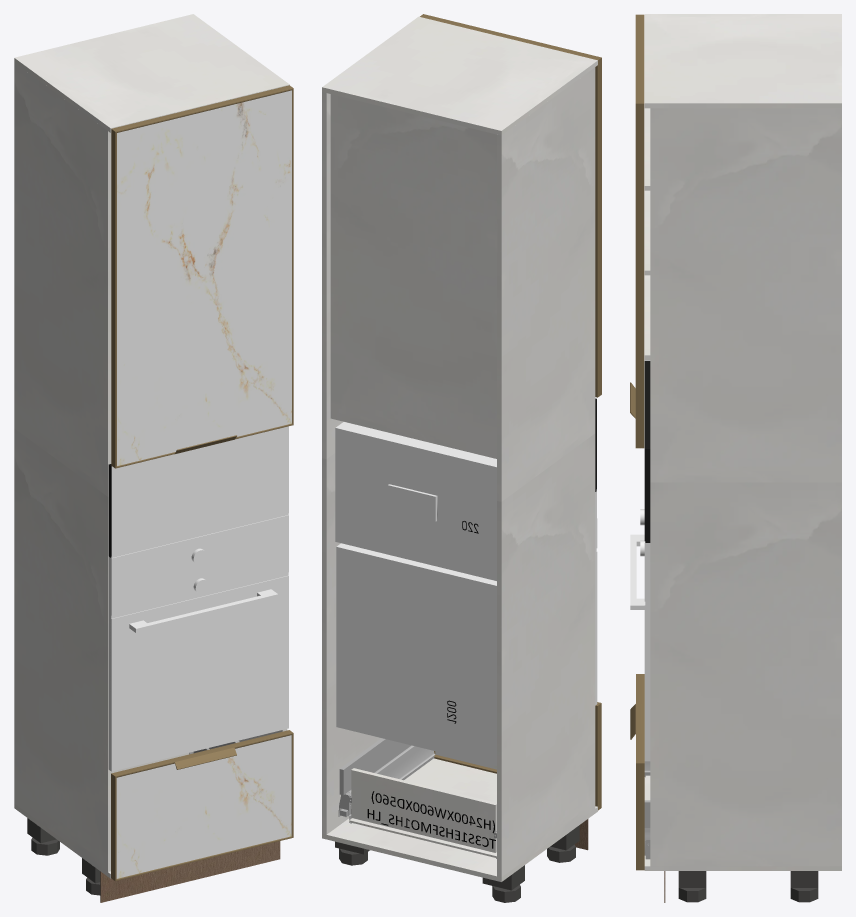
File: TC-MO-TTS-ST-3SX-1HB-LHS-600-2400-560-15.glb
3 views of the same model, side by side, from view 1: azimuth 30°, elevation 25°; view 2: azimuth 150°, elevation 25°; view 3: azimuth 270°, elevation 25° (orthographic). The views are drawn at different scales.
Visible parts, largest first — view 1: TP_node_0, Object_node_41, SKP_Component1_node, SKP_Component1_node_2, TP, Object_node_39, Object_node_47, Extrusion_node_11, Extrusion_node_10, ExtrSplGeo, Extrusion_node, Extrusion_node_9 (+1 smaller); view 2: TP_node_0, TP_node_7, SKP_Component0_node_1, SKP_Component0_node_2, TP, TP_node_1, TP_node_3, TP_node, TP_node_2, Extrusion_node_11, Object_node_35, Shell_0_0 (+5 smaller); view 3: TP_node_1, TP, Extrusion_node_9, SKP_Component1_node, SKP_Component0_node_3, TP_node, Extrusion_node_2, Extrusion_node_10, TP_node_5, TP_node_4, TP_node_6, Extrusion_node (+3 smaller).
Boxes of the visible parts, box(x1,y1,x2,y2) form: TP_node_0: box(14, 63, 112, 871); Object_node_41: box(117, 90, 291, 465); SKP_Component1_node: box(108, 542, 288, 771); SKP_Component1_node_2: box(108, 426, 288, 585); TP: box(14, 14, 289, 132); Object_node_39: box(116, 735, 291, 878); Object_node_47: box(100, 841, 280, 902); Extrusion_node_11: box(111, 129, 116, 468); Extrusion_node_10: box(111, 85, 293, 132); ExtrSplGeo: box(171, 744, 236, 769); Extrusion_node: box(111, 730, 293, 777); Extrusion_node_9: box(292, 89, 293, 424); TP_node_0: box(497, 67, 595, 877); TP_node_7: box(330, 94, 496, 458); SKP_Component0_node_1: box(336, 543, 496, 765); SKP_Component0_node_2: box(335, 422, 496, 580); TP: box(322, 16, 597, 135); TP_node_1: box(322, 92, 381, 834); TP_node_3: box(351, 768, 496, 852); TP_node: box(322, 806, 597, 881); TP_node_2: box(349, 758, 496, 857); Extrusion_node_11: box(595, 58, 601, 397); Object_node_35: box(339, 738, 411, 795); Shell_0_0: box(338, 745, 435, 823); TP_node_1: box(650, 108, 841, 866); TP: box(644, 14, 841, 108); Extrusion_node_9: box(635, 103, 644, 448); SKP_Component1_node: box(630, 534, 650, 761); SKP_Component0_node_3: box(644, 360, 650, 542); TP_node: box(644, 777, 841, 870); Extrusion_node_2: box(636, 763, 644, 870); Extrusion_node_10: box(635, 14, 644, 103); TP_node_5: box(644, 190, 650, 275); TP_node_4: box(644, 275, 650, 359); TP_node_6: box(644, 108, 650, 190); Extrusion_node: box(636, 674, 644, 763).
Size of what is drawn, in the model's own units: 0.6 by 2.5 by 0.6.
Materials: 10 (3 with a texture image).
